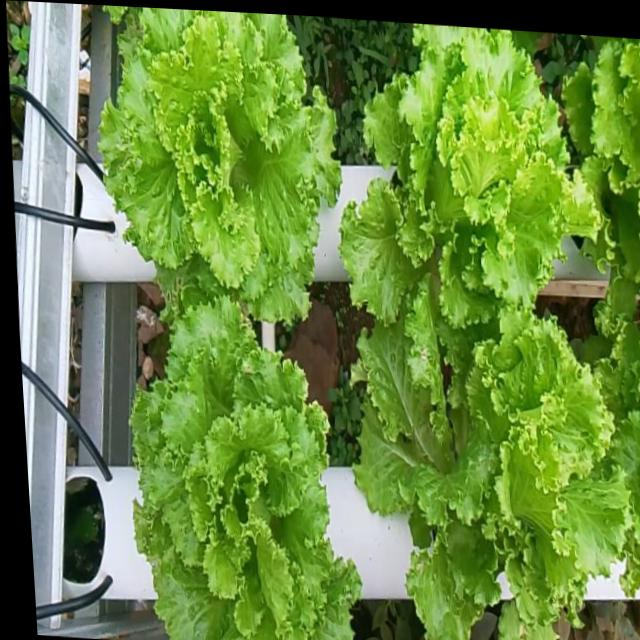Mature: (78, 6, 337, 350), (349, 309, 611, 640), (133, 296, 357, 640), (335, 23, 588, 324)
